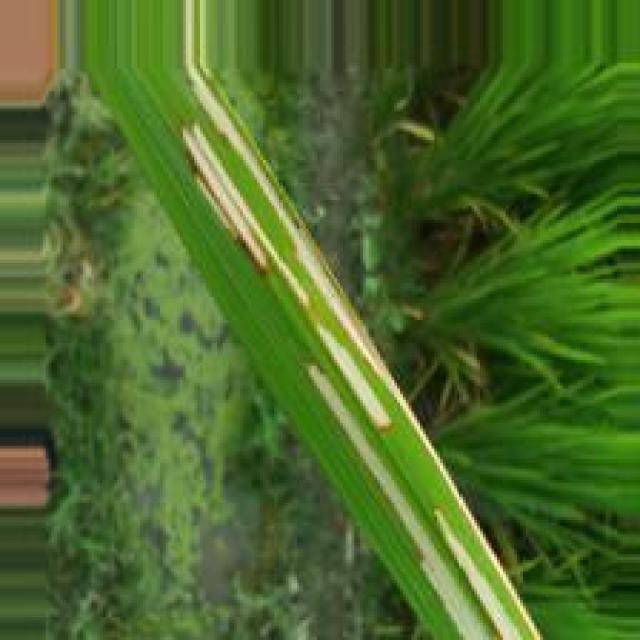Rice_Hispa: (182, 0, 542, 638), (301, 367, 497, 636), (174, 124, 311, 304), (306, 317, 394, 429)
